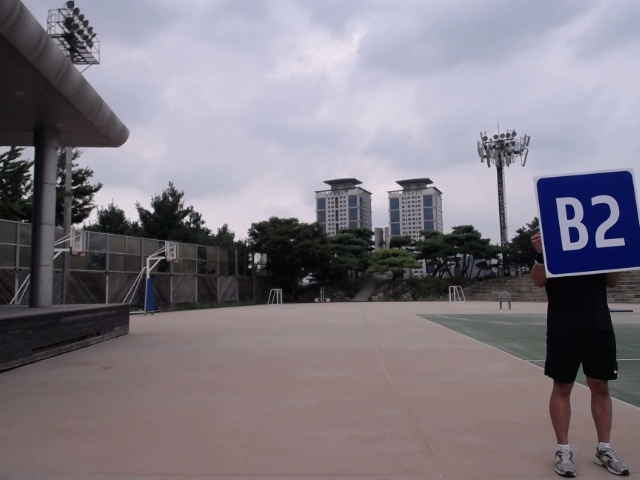delivery_b2: (534, 169, 639, 278)
